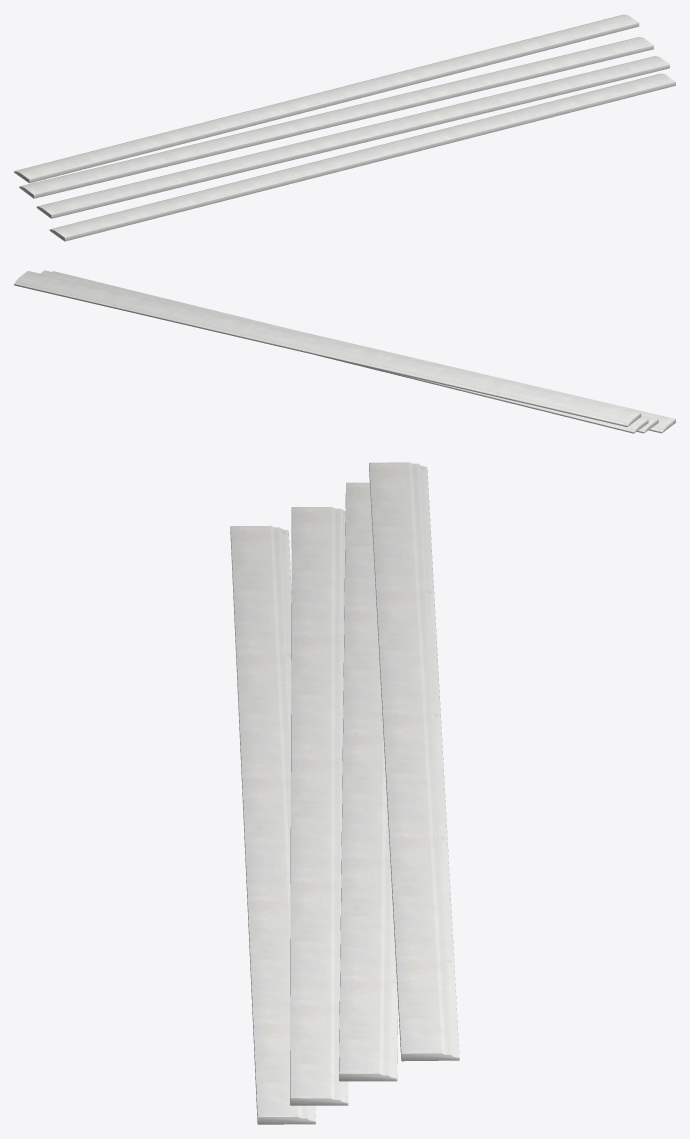
File: PIS-ROD-003_anim.glb
The picture shows the model from 3 angles, top to bottom: view 1: azimuth 30°, elevation 25°; view 2: azimuth 150°, elevation 25°; view 3: azimuth 270°, elevation 25°; orthographic projection. The views are drawn at different scales.
Visible parts, largest first — view 1: PIS-ROD-003_anim2, PIS-ROD-003_anim1, PIS-ROD-003_anim3, PIS-ROD-003_anim0; view 2: PIS-ROD-003_anim3, PIS-ROD-003_anim2, PIS-ROD-003_anim0, PIS-ROD-003_anim1; view 3: PIS-ROD-003_anim3, PIS-ROD-003_anim1, PIS-ROD-003_anim0, PIS-ROD-003_anim2.
Boxes of the visible parts, <box> form: PIS-ROD-003_anim2: <box>19,37,653,198</box>; PIS-ROD-003_anim1: <box>36,56,669,218</box>; PIS-ROD-003_anim3: <box>14,14,639,183</box>; PIS-ROD-003_anim0: <box>49,73,675,241</box>; PIS-ROD-003_anim3: <box>14,271,641,426</box>; PIS-ROD-003_anim2: <box>40,270,648,433</box>; PIS-ROD-003_anim0: <box>303,332,675,433</box>; PIS-ROD-003_anim1: <box>52,271,658,433</box>; PIS-ROD-003_anim3: <box>369,462,459,1061</box>; PIS-ROD-003_anim1: <box>290,507,348,1105</box>; PIS-ROD-003_anim0: <box>230,525,315,1124</box>; PIS-ROD-003_anim2: <box>339,482,398,1081</box>.
Bounding box in the file's own units: 2.41 × 0.1349 × 0.393.
Materials: 1 (1 with a texture image).
